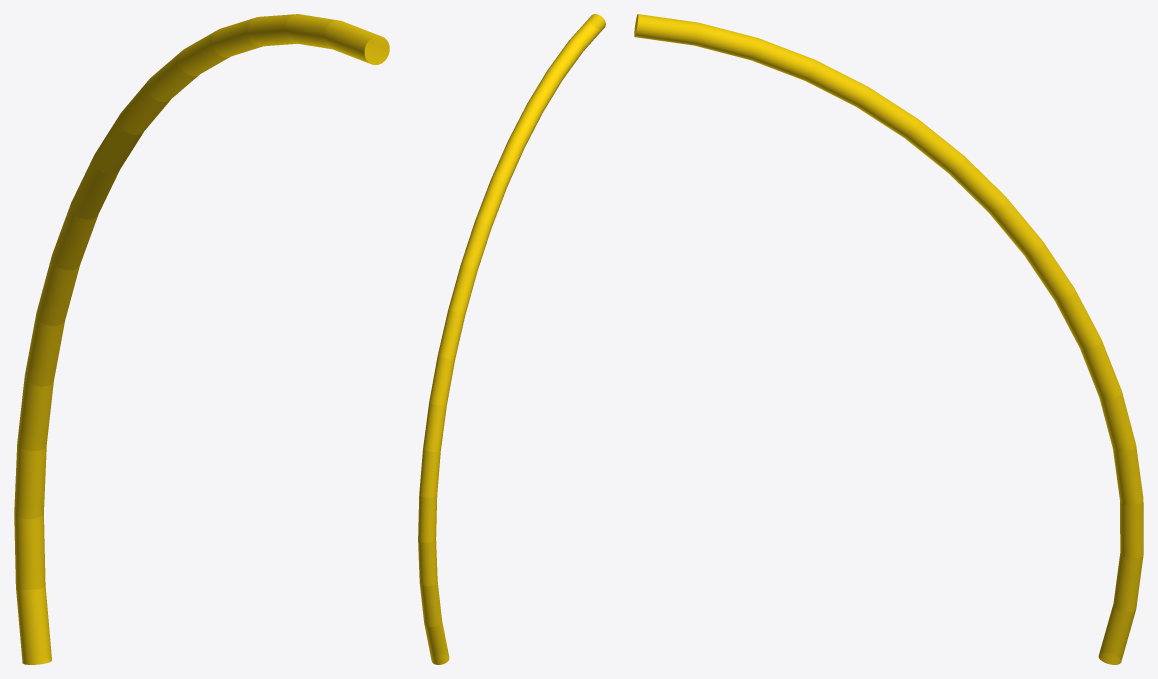
Rendered from Event_421115418_track_54.fbx.
3 renders of one model, left to right at view 1: azimuth 30°, elevation 25°; view 2: azimuth 150°, elevation 25°; view 3: azimuth 270°, elevation 25°, orthographic. The views are drawn at different scales.
Visible parts, largest first — view 1: Model; view 2: Model; view 3: Model.
Part boxes in pixels (x1,y1,x2,y2): Model: (14,14,389,664); Model: (418,14,605,664); Model: (634,14,1143,664).
Size of the model in its own units: 0.1027 by 1.24 by 0.865.
